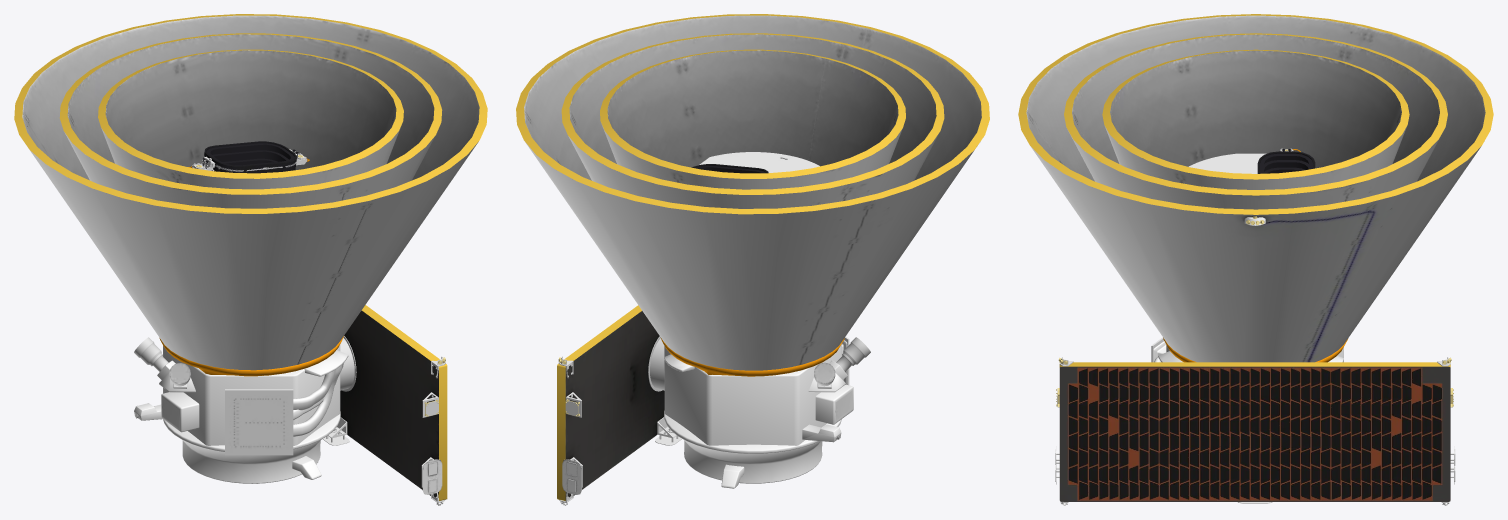
Rendered from spherex.glb.
The picture shows the model from 3 angles, left to right: view 1: azimuth 30°, elevation 25°; view 2: azimuth 150°, elevation 25°; view 3: azimuth 270°, elevation 25°; orthographic projection.
Visible parts, largest first — view 1: array_front, collars, collars_trim, Cylinder.026, collar.001, Cube.029, Cube.020, Cube.024, Cylinder.027, collars.001; view 2: array_front, collars, collars_trim, Cylinder.026, collar.001, Cube.029, Cylinder.027, Cube.024, collars.001; view 3: array_front, collars, collars_trim, collar.001, Cube.020, Cube.024.
Boxes of the visible parts, x1=… form: array_front: x1=30, y1=15, x2=478, y2=497; collars: x1=22, y1=15, x2=479, y2=213; collars_trim: x1=14, y1=14, x2=487, y2=500; Cylinder.026: x1=163, y1=344, x2=340, y2=483; collar.001: x1=135, y1=363, x2=442, y2=494; Cube.029: x1=134, y1=350, x2=348, y2=479; Cube.020: x1=206, y1=142, x2=294, y2=165; Cube.024: x1=188, y1=149, x2=445, y2=505; Cylinder.027: x1=134, y1=336, x2=356, y2=391; collars.001: x1=159, y1=336, x2=343, y2=376; array_front: x1=525, y1=34, x2=974, y2=500; collars: x1=524, y1=15, x2=981, y2=194; collars_trim: x1=516, y1=14, x2=989, y2=500; Cylinder.026: x1=664, y1=344, x2=841, y2=483; collar.001: x1=562, y1=152, x2=852, y2=494; Cube.029: x1=664, y1=340, x2=853, y2=488; Cylinder.027: x1=648, y1=336, x2=870, y2=391; Cube.024: x1=558, y1=356, x2=681, y2=505; collars.001: x1=660, y1=337, x2=844, y2=376; array_front: x1=1030, y1=15, x2=1481, y2=501; collars: x1=1026, y1=15, x2=1485, y2=181; collars_trim: x1=1018, y1=14, x2=1493, y2=367; collar.001: x1=1151, y1=153, x2=1266, y2=362; Cube.020: x1=1260, y1=152, x2=1313, y2=173; Cube.024: x1=1055, y1=148, x2=1455, y2=505.
Bounding box in the file's own units: 3.29 × 2.75 × 3.25.
15 materials, 3 textured.
